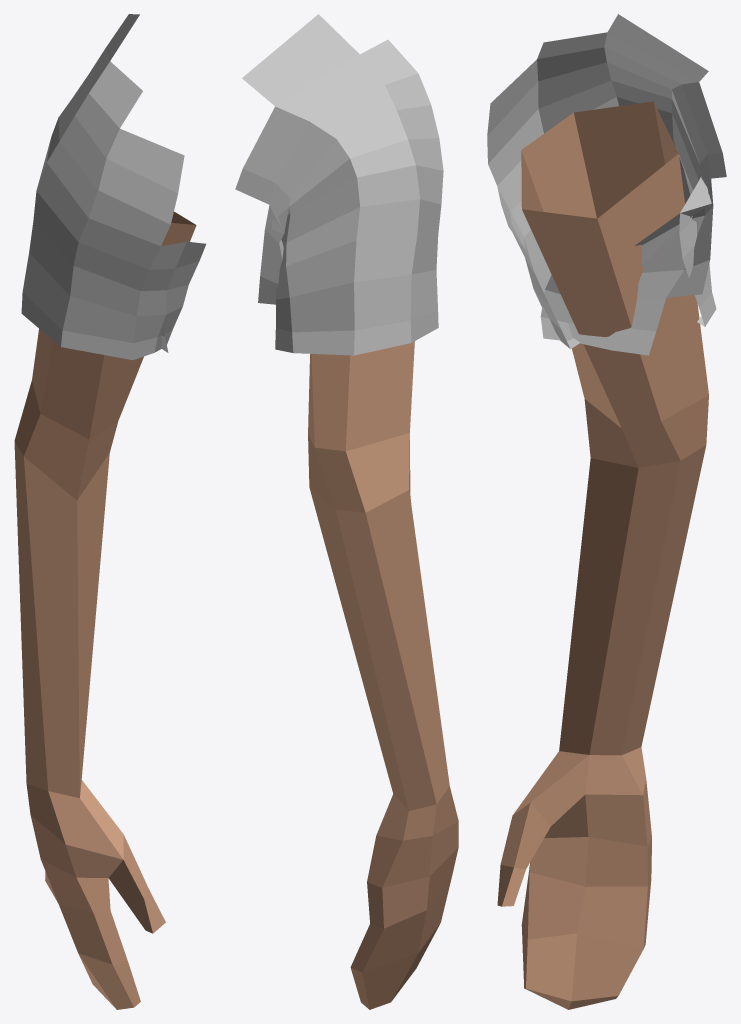
Rendered from bras02.obj.
3 renders of one model, left to right at view 1: azimuth 30°, elevation 25°; view 2: azimuth 150°, elevation 25°; view 3: azimuth 270°, elevation 25°, orthographic. The views are drawn at different scales.
Parts seen in each view (by area): view 1: Worker; view 2: Worker; view 3: Worker.
Boxes of the visible parts, x1,y1,x2,y2 form: Worker: (14, 14, 206, 1009); Worker: (235, 14, 458, 1009); Worker: (487, 14, 726, 1009).
Bounding box in the file's own units: 0.1269 × 0.8031 × 0.171.
